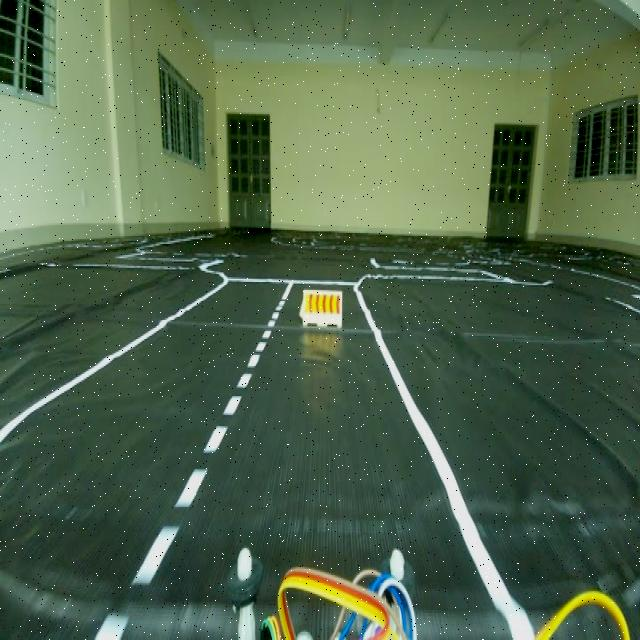roadblock: (294, 279, 350, 351)
